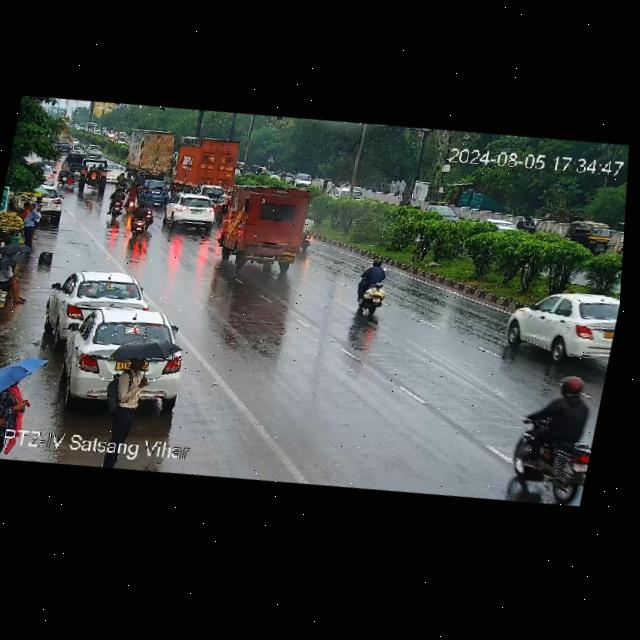car: (41, 297, 196, 425), (216, 178, 324, 276), (501, 283, 620, 370), (46, 263, 153, 336), (163, 189, 224, 233), (564, 217, 621, 256), (41, 185, 68, 226), (54, 160, 80, 193), (140, 178, 170, 205), (95, 160, 130, 182), (430, 203, 462, 226), (62, 152, 90, 174), (83, 143, 111, 161), (42, 164, 59, 186), (208, 182, 226, 202)
motorcycle: (507, 353, 608, 511), (344, 255, 397, 318), (126, 197, 158, 238), (103, 186, 131, 220), (300, 214, 321, 253), (521, 216, 541, 236), (114, 172, 128, 190)
person: (100, 350, 161, 440), (0, 370, 35, 435), (0, 252, 34, 305), (15, 201, 43, 245)
truck: (139, 126, 258, 204), (123, 126, 179, 178), (79, 158, 108, 195)
